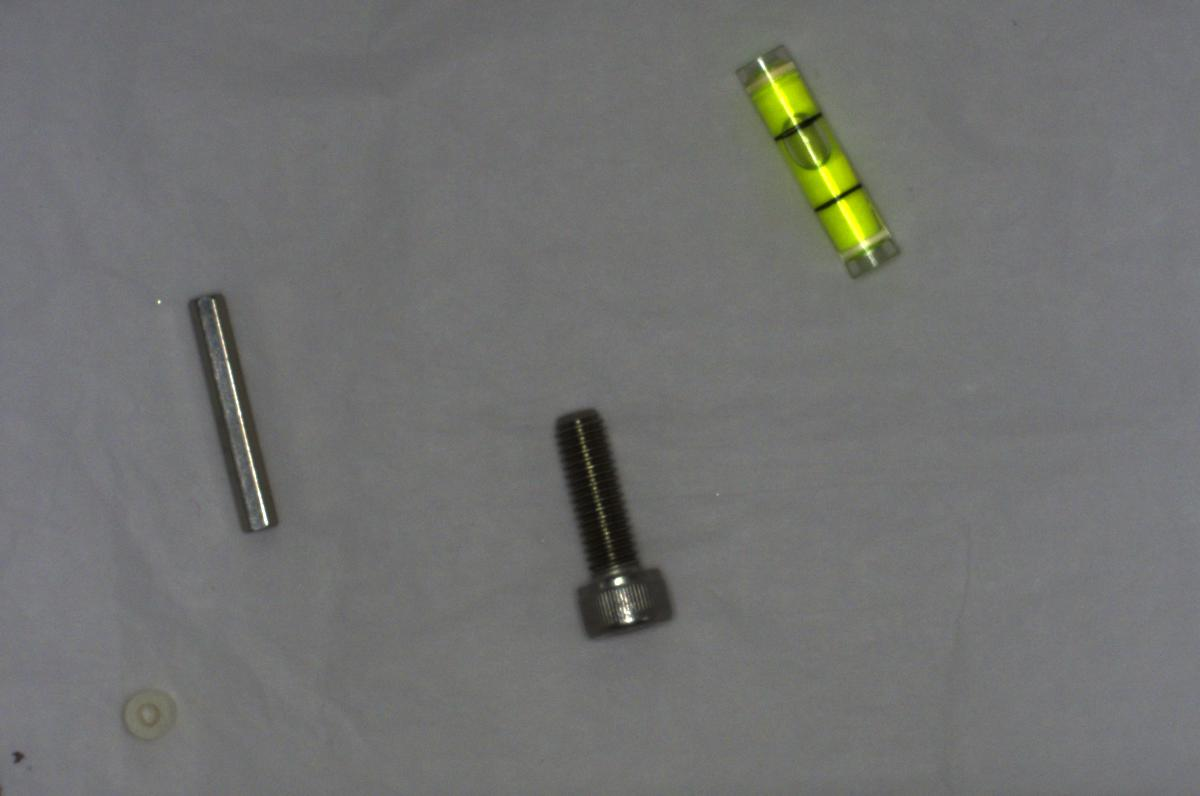Double hexagonal column: (182, 279, 294, 541)
Hexagon screw: (546, 400, 672, 650)
Horizontal bubble: (727, 33, 899, 279)
Plastic cushion pillar: (119, 681, 179, 746)
